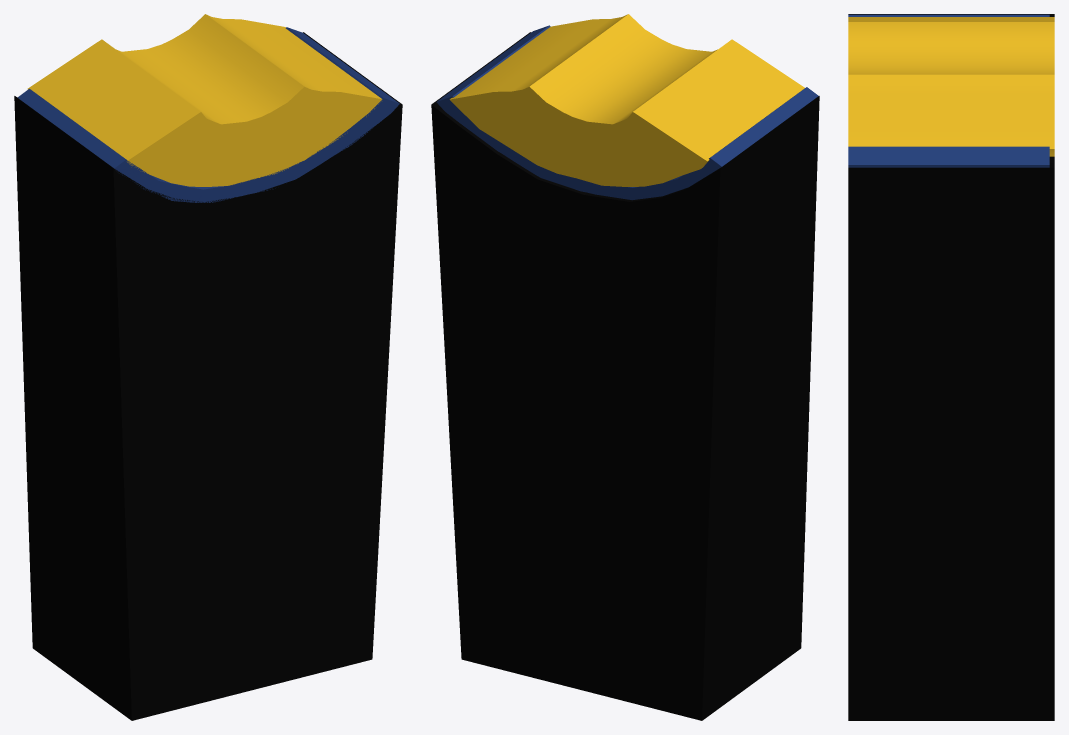
The model's file is jubah.fbx.
3 views of the same model, side by side, from view 1: azimuth 30°, elevation 25°; view 2: azimuth 150°, elevation 25°; view 3: azimuth 270°, elevation 25° (orthographic). The views are drawn at different scales.
Visible parts, largest first — view 1: node_id63 (×3); view 2: node_id63 (×3); view 3: node_id63 (×3).
Part boxes in pixels (x1=…): node_id63 (×3): x1=14, y1=14, x2=402, y2=720; node_id63 (×3): x1=431, y1=14, x2=819, y2=720; node_id63 (×3): x1=848, y1=14, x2=1054, y2=720.
Bounding box in the file's own units: 0.1683 × 0.3293 × 0.1.
3 materials, 3 textured.
